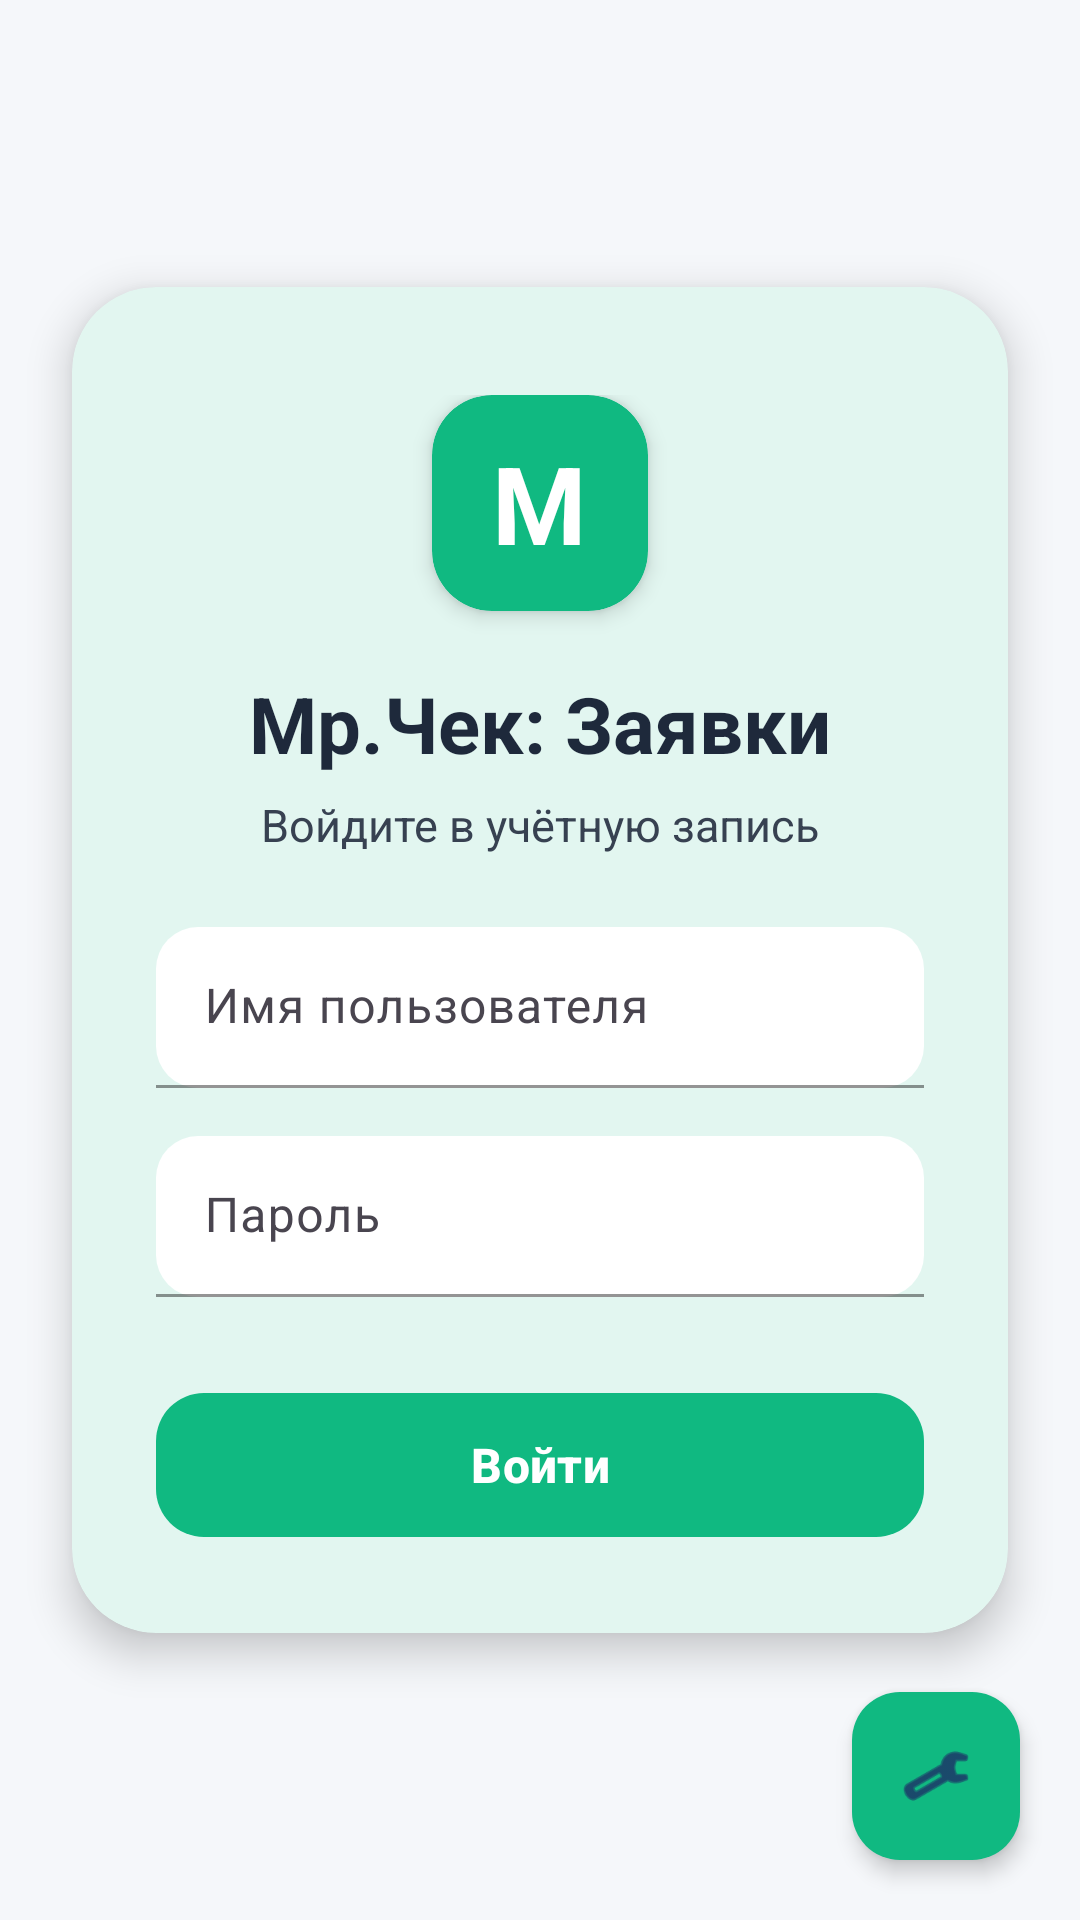

Locate icon controls on the screen. Image size 1080×1920, boxes as (x1, y1, x2, y2).
preferences: (852, 1692, 1020, 1860)
